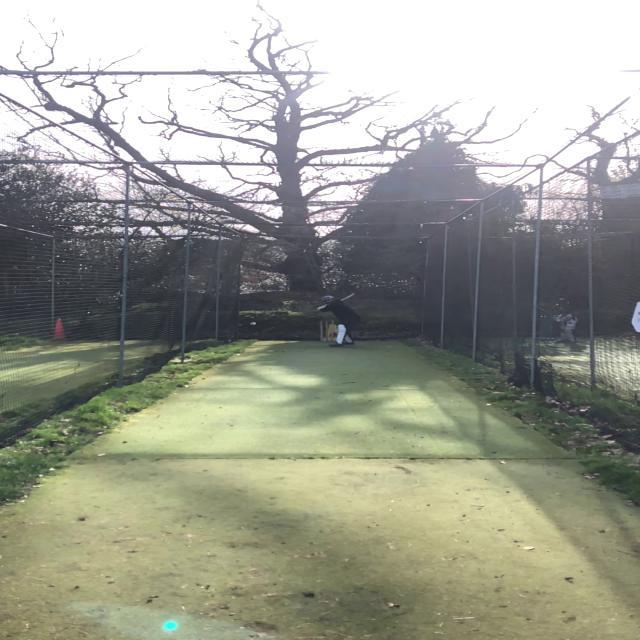ball: (249, 320, 257, 327)
